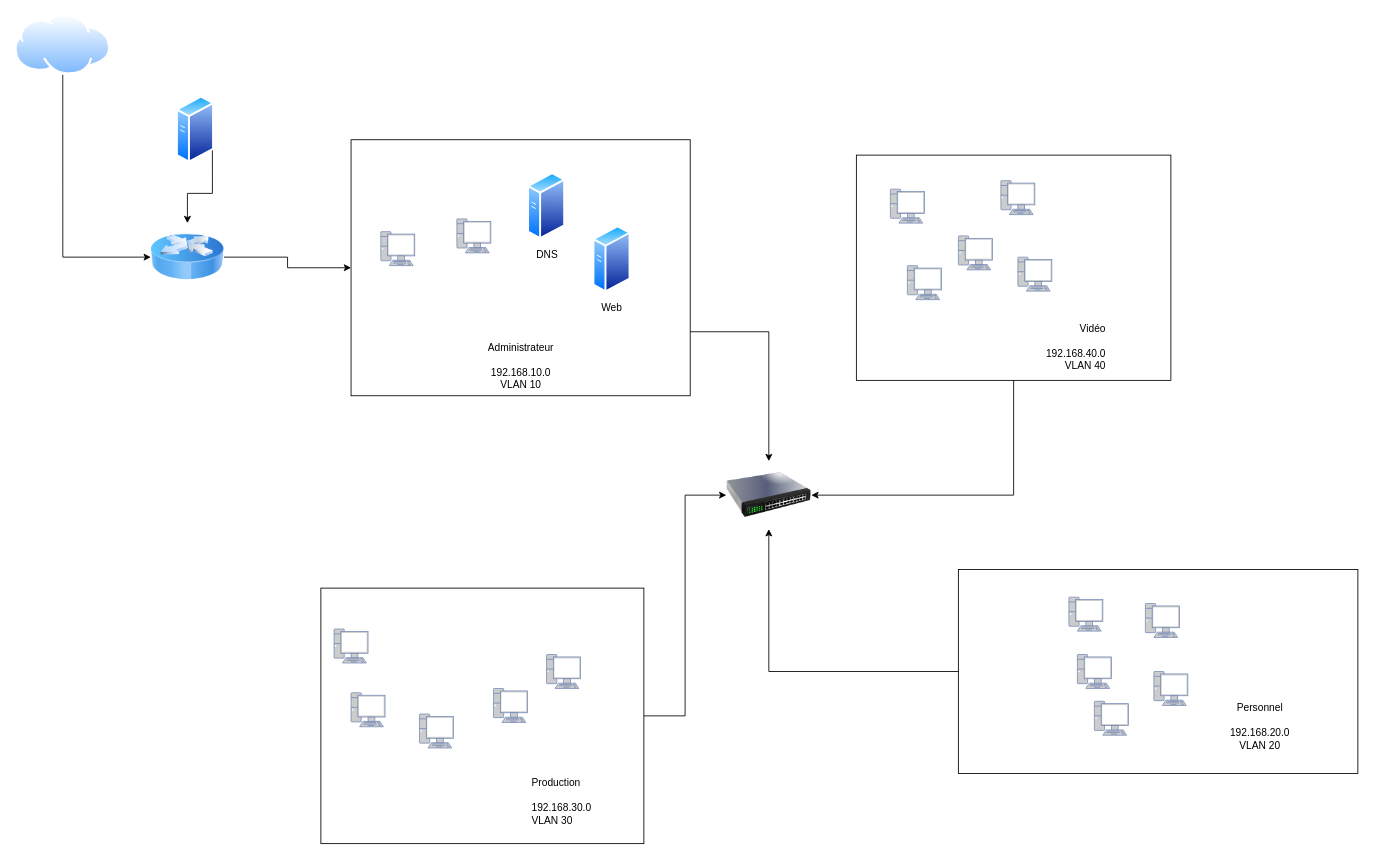
The diagram is 1373 pixels wide and 859 high, and some of its shapes have lost their labels. Each missing label, with the centre of its shape:
"DHCP" belongs at (195,129).
"Internet VLAN 800" belongs at (62,44).
